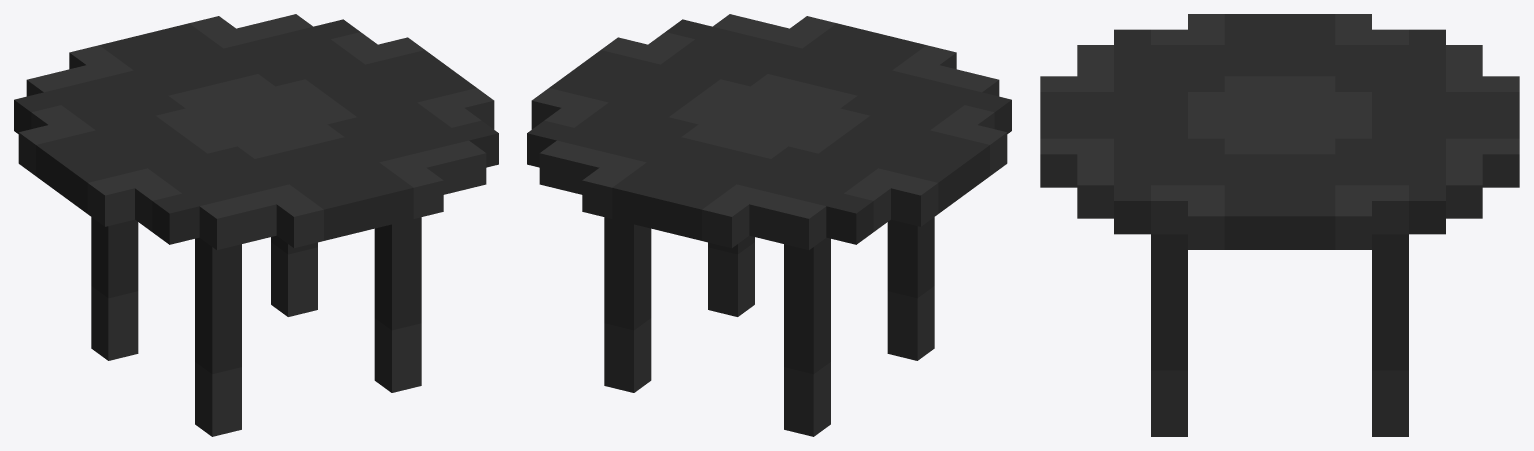
Rendered from Decor-75.obj.
3 renders of one model, left to right at view 1: azimuth 30°, elevation 25°; view 2: azimuth 150°, elevation 25°; view 3: azimuth 270°, elevation 25°, orthographic. The views are drawn at different scales.
Size of the model in its own units: 1.3 by 0.8 by 1.3.
Materials: 1 (1 with a texture image).
